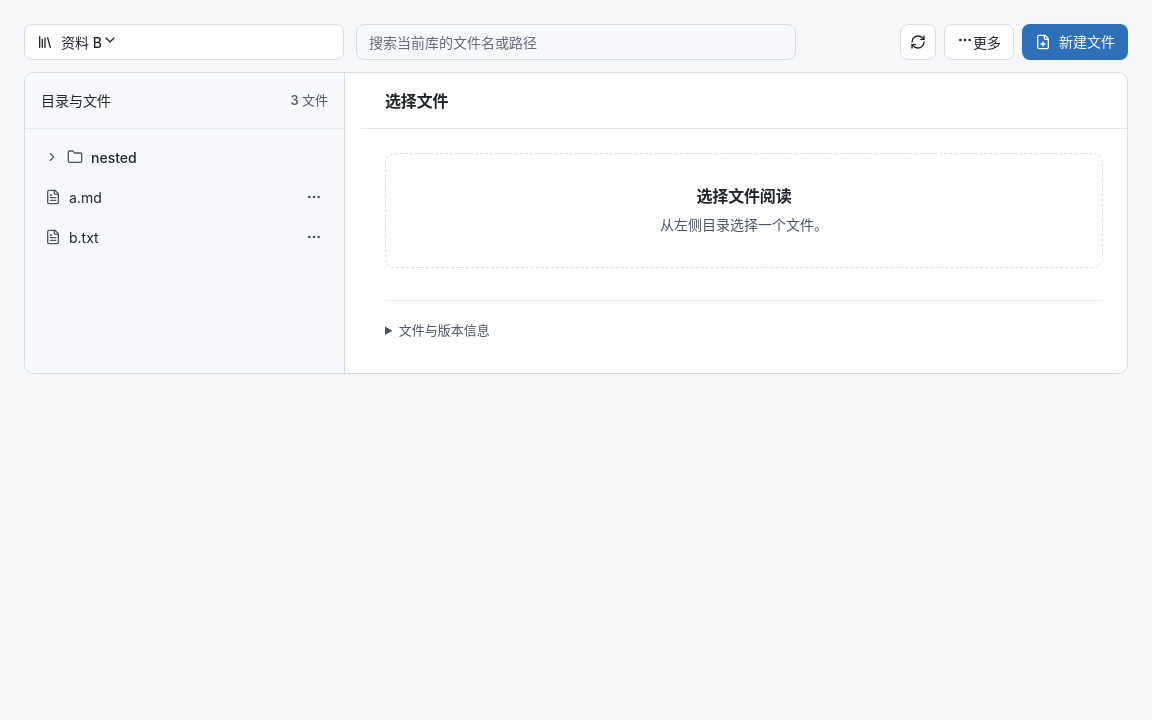
Test: KnowledgeConsole reading and request ownership › honors focus and uses actual library names and keys for top-level search
The image size is (1152, 720).
Click the button with aria-label "选择资料库" at (81, 43), box [24,24,344,60]
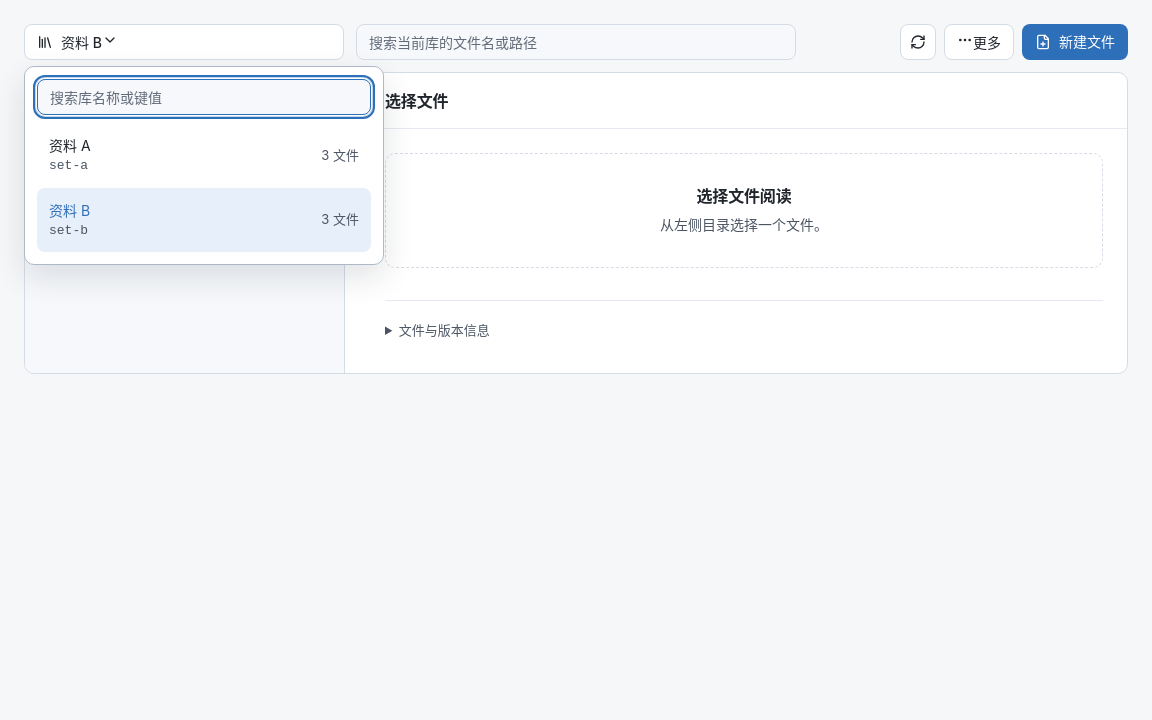
Type "资料 A" into the field named "搜索资料库" at (204, 97), box [37,79,371,115]
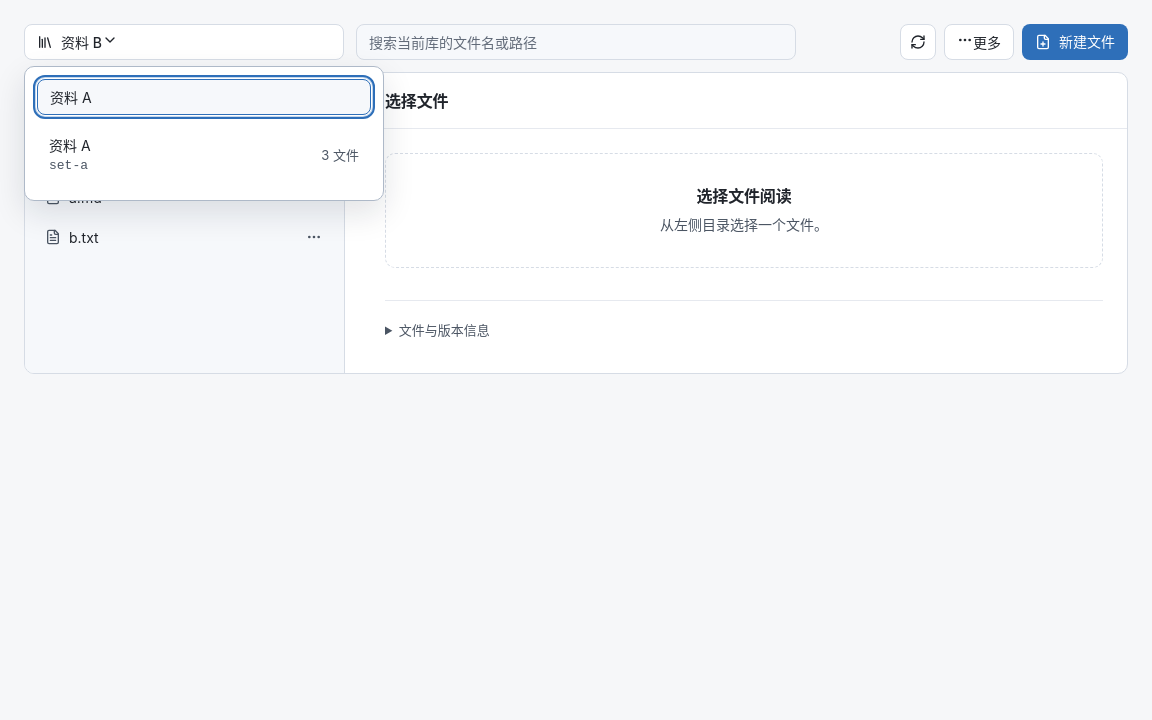
Expected: the button with class "knowledge-library-option" shows "set-a", [37,123,371,188]
Expected: the number of buttons with class "knowledge-library-option" is 1, [37,123,371,188]
